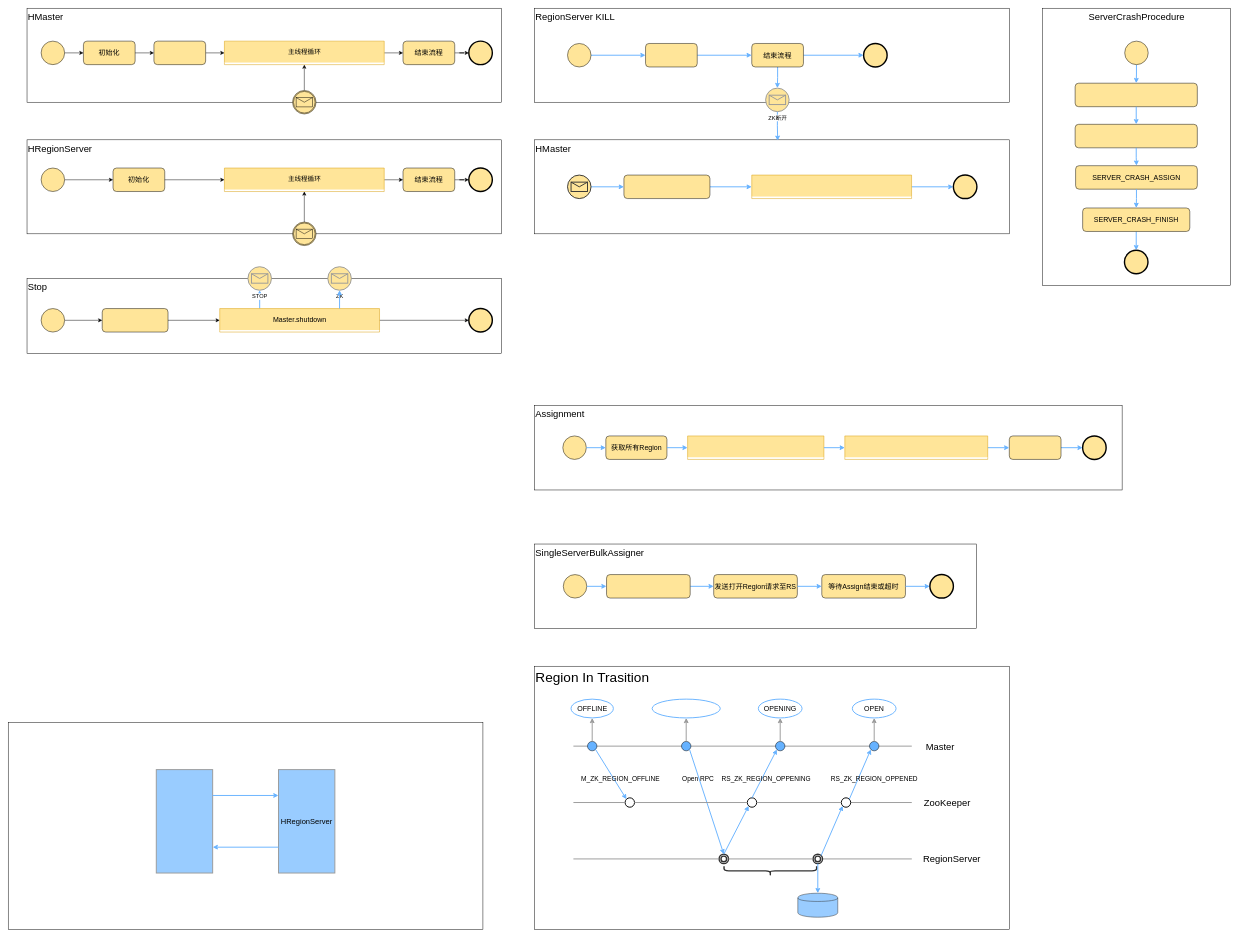
Image size: 1239x938. Some labels were removed from this diagram. Here are the shapes that lost their labels. From the top down, the centre of each, then its label:
At (179,53): "成为Master".
At (671,55): "KILL".
At (1136,95): "SERVER_CRASH_GET_REGIONS".
At (1136,136): "SERVER_CRASH_SPLIT_LOGS".
At (666,187): "RegionServerTracker".
At (831,187): "ServerManeger.ExpireServer".
At (135,320): "执行stop-hbase.sh".
At (755,447): "获取BulkPlan".
At (916,447): "执行BulkPlan".
At (1035,447): "等待线程池终止或超时".
At (648,586): "更新ZK状态为OFFLINE".
At (686,708): "PENDING_OPEN".
At (184,821): "HMaster AM Meta".
At (770,870): "OPEN REGION".
At (817,905): "hbase:meta".
